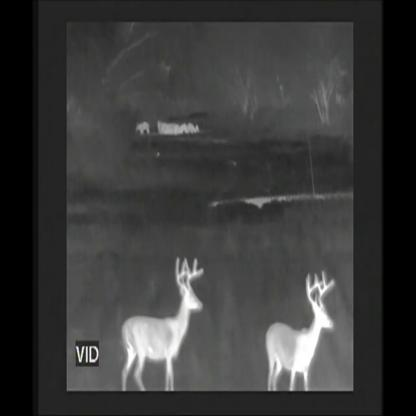rehkitze: (120, 257, 205, 385), (261, 269, 336, 389), (158, 119, 201, 134), (136, 123, 151, 136)
